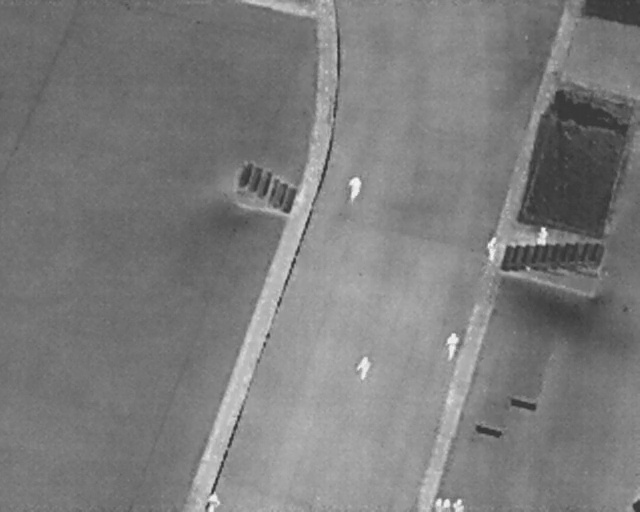Person: (442, 328, 460, 363), (345, 173, 363, 204), (483, 234, 499, 264), (356, 353, 372, 383), (539, 225, 548, 248), (209, 491, 219, 511), (453, 497, 465, 511), (434, 495, 440, 511), (444, 495, 450, 511)
